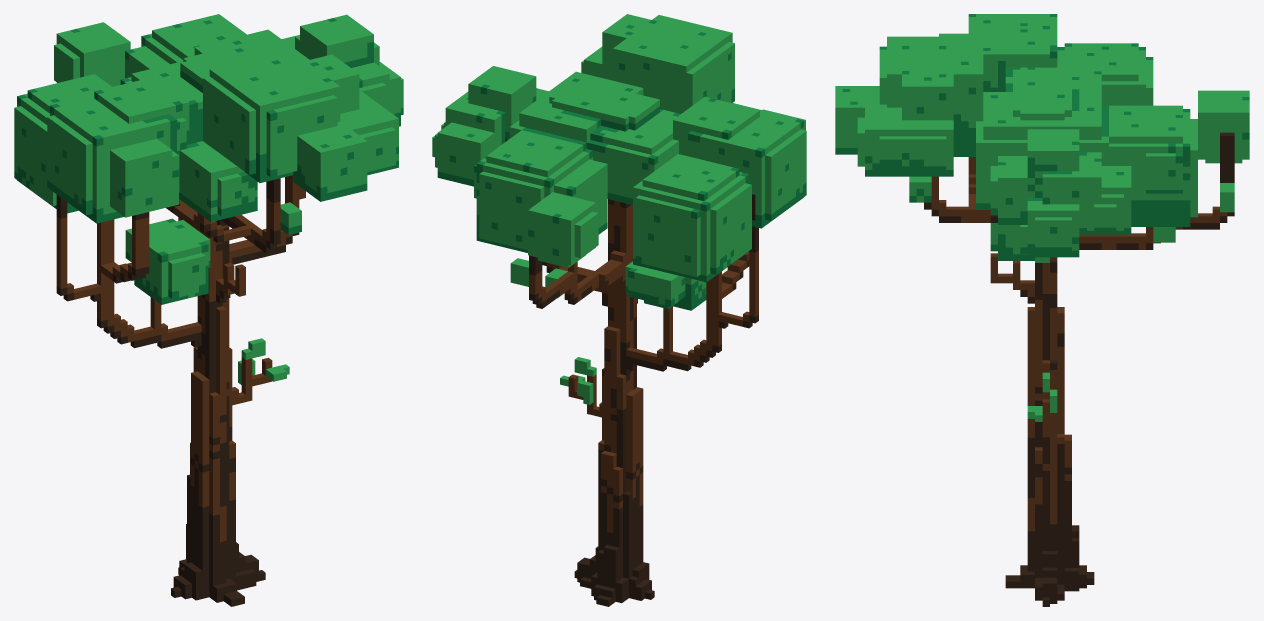
Rendered from TreeMd.fbx.
The picture shows the model from 3 angles, left to right: view 1: azimuth 30°, elevation 25°; view 2: azimuth 150°, elevation 25°; view 3: azimuth 270°, elevation 25°; orthographic projection. The views are drawn at different scales.
Parts seen in each view (by area): view 1: TreeMd; view 2: TreeMd; view 3: TreeMd.
Part boxes in pixels (x1=…): TreeMd: x1=14, y1=14, x2=403, y2=606; TreeMd: x1=432, y1=14, x2=806, y2=606; TreeMd: x1=835, y1=14, x2=1249, y2=606.
Bounding box in the file's own units: 520 × 790 × 560.
